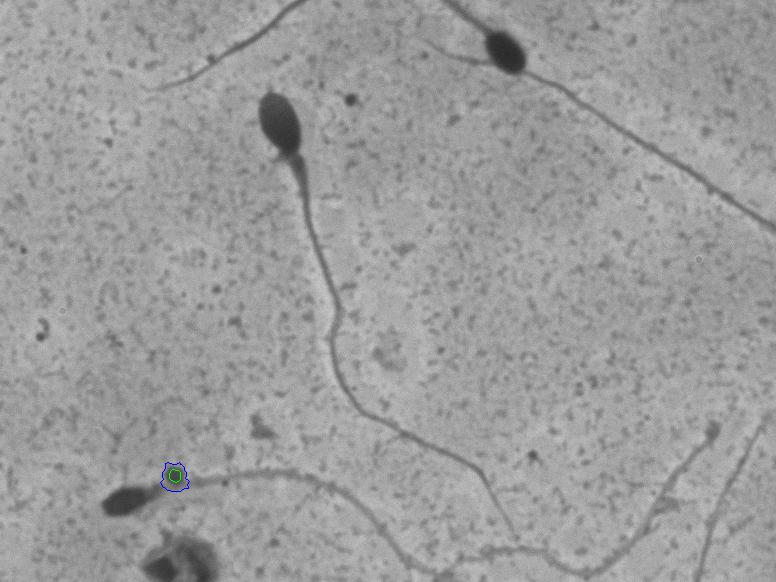Abnormal: (77, 442, 366, 555)
Normal: (231, 66, 535, 541)
